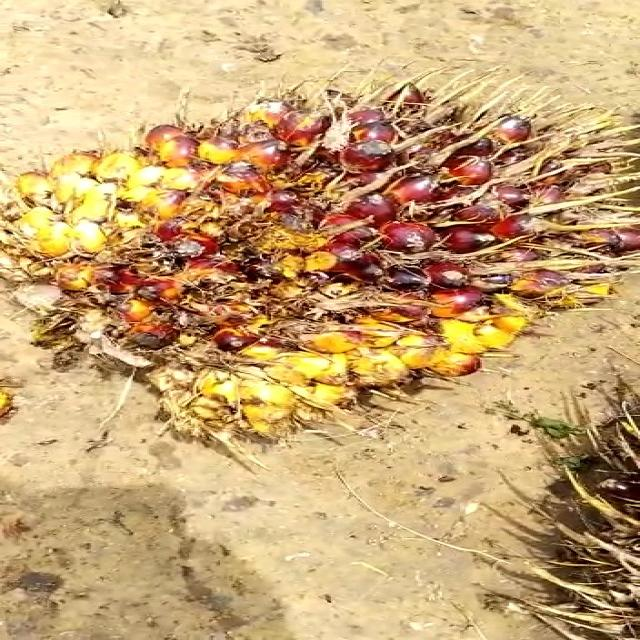palm oil: (0, 68, 640, 444)
